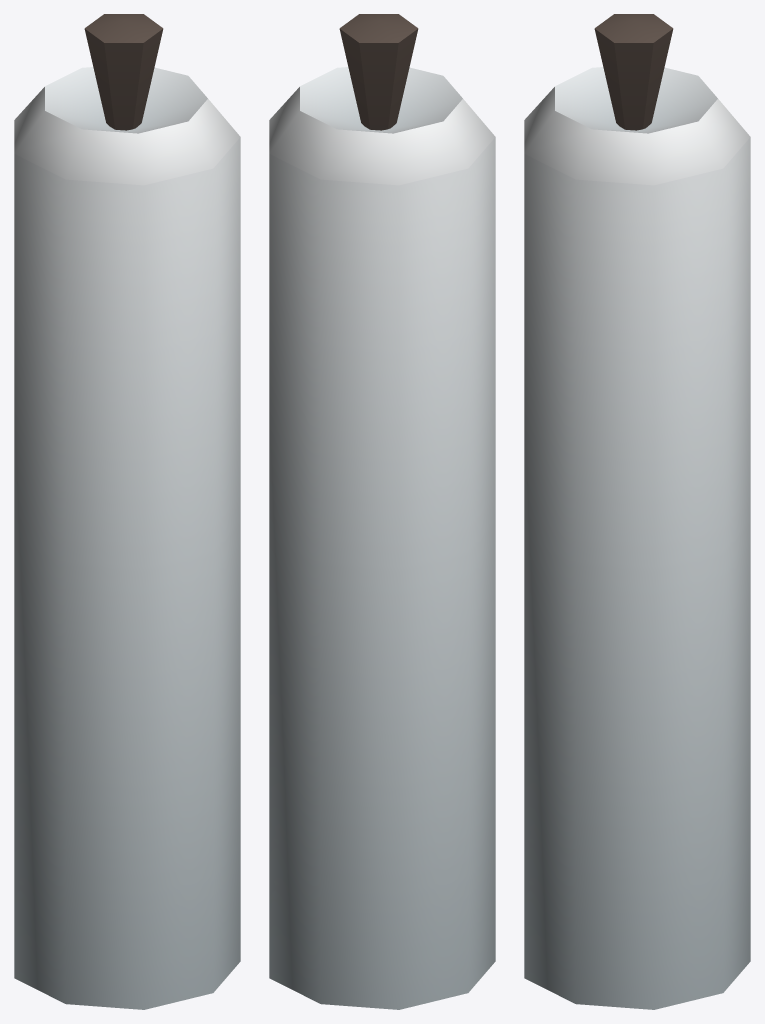
The model's file is Candle.glb.
3 renders of one model, left to right at view 1: azimuth 30°, elevation 25°; view 2: azimuth 150°, elevation 25°; view 3: azimuth 270°, elevation 25°, orthographic.
Visible parts, largest first — view 1: candle_thin; view 2: candle_thin; view 3: candle_thin.
Part boxes in pixels (x1,y1,x2,y2): candle_thin: (14, 14, 240, 1009); candle_thin: (269, 14, 495, 1009); candle_thin: (524, 14, 750, 1009).
Bounding box in the file's own units: 0.1739 × 0.7857 × 0.1712.
1 material, 1 textured.
